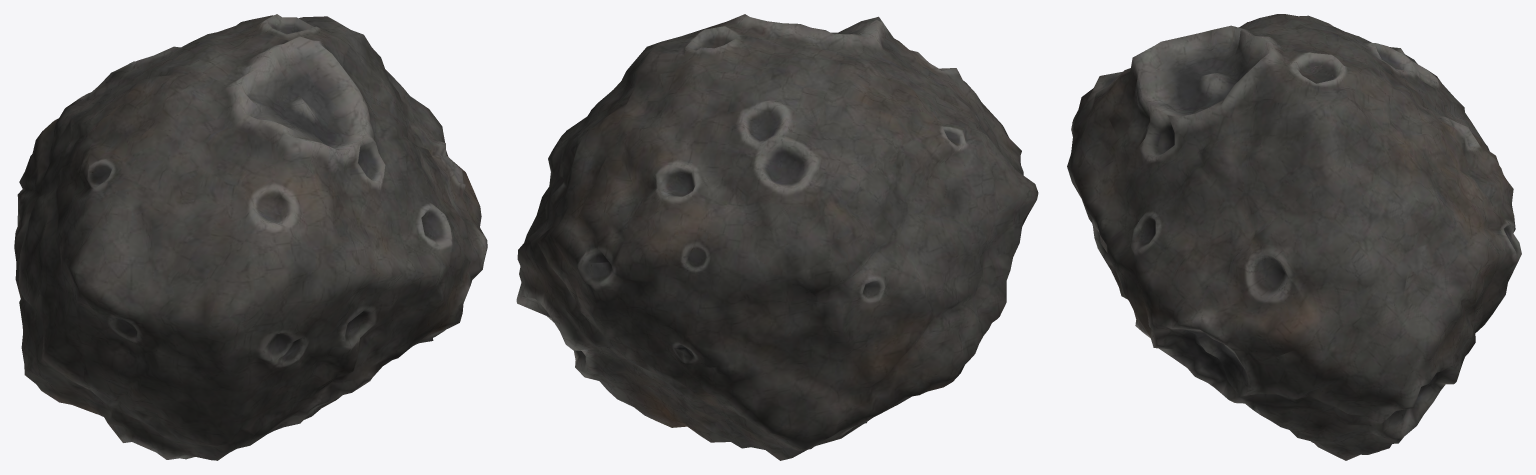
Rendered from asteroid_a.glb.
3 renders of one model, left to right at view 1: azimuth 30°, elevation 25°; view 2: azimuth 150°, elevation 25°; view 3: azimuth 270°, elevation 25°, orthographic. The views are drawn at different scales.
Parts seen in each view (by area): view 1: AST_A_low; view 2: AST_A_low; view 3: AST_A_low.
Boxes of the visible parts, bbox=[...] form: AST_A_low: bbox=[14, 14, 487, 460]; AST_A_low: bbox=[516, 14, 1038, 460]; AST_A_low: bbox=[1067, 14, 1521, 460].
Bounding box in the file's own units: 1.79 × 1.54 × 1.65.
Materials: 1 (1 with a texture image).
